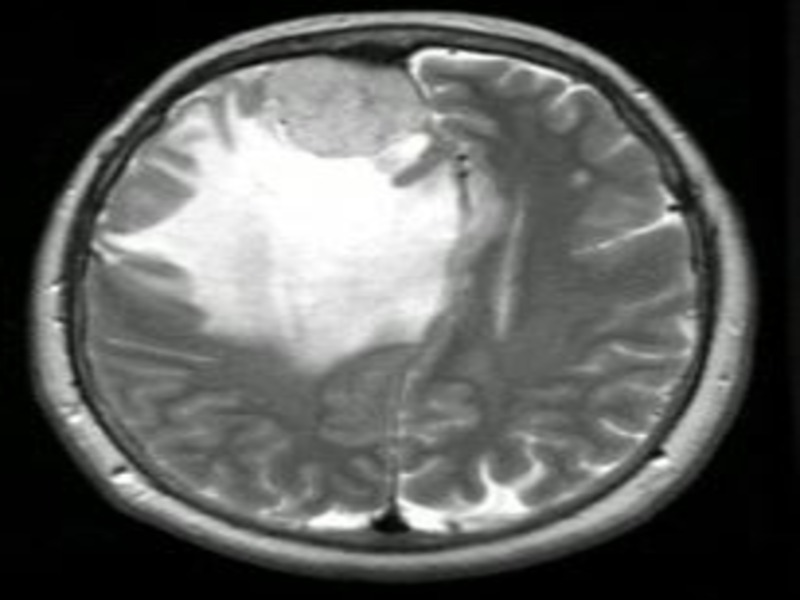tumor: (148, 95, 468, 371)
